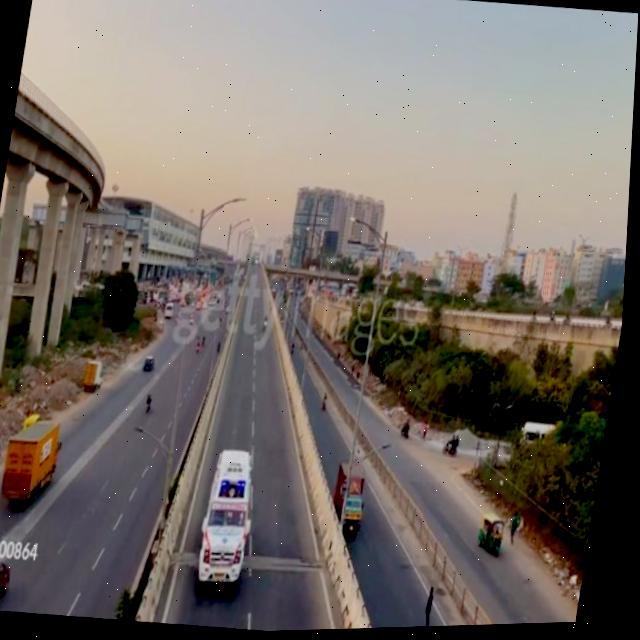emergency: (198, 449, 267, 593)
